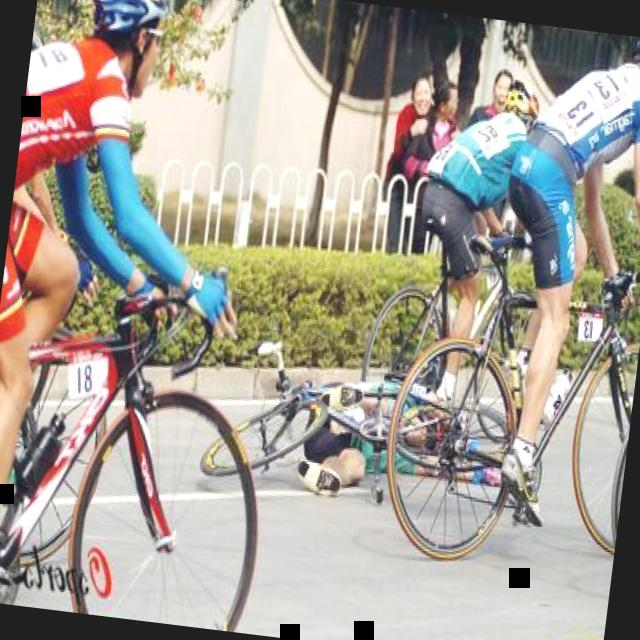Fall-Detected: (278, 334, 531, 531)
